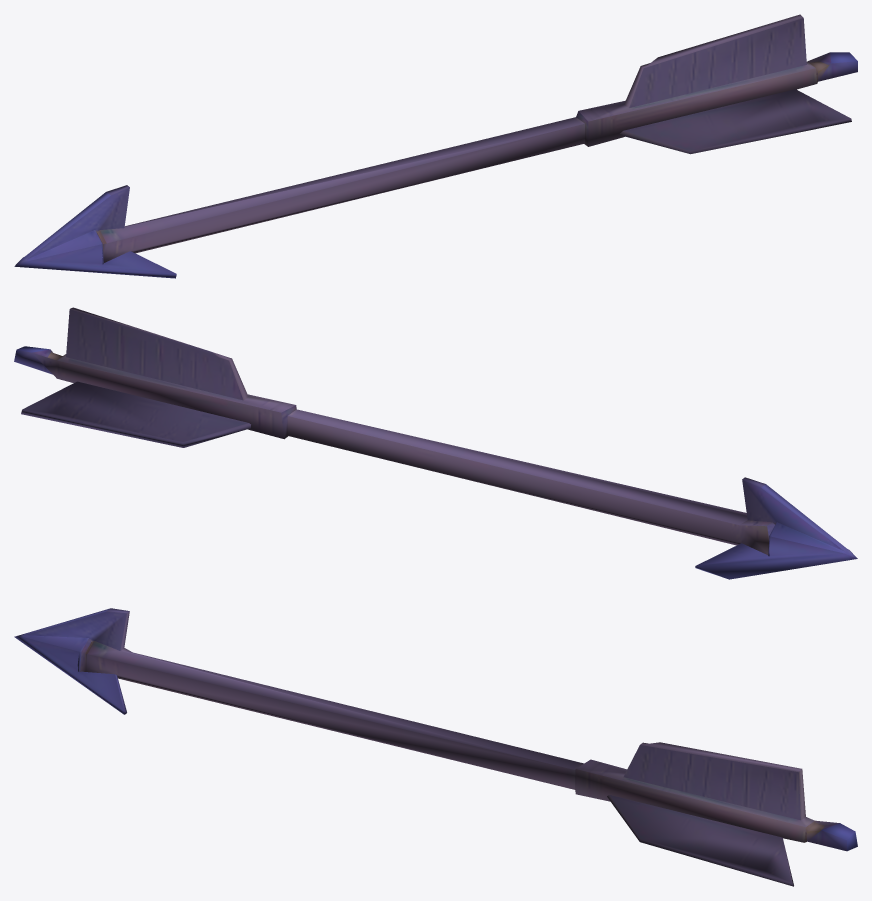
File: model.progressive.glb
3 renders of one model, top to bottom at view 1: azimuth 30°, elevation 25°; view 2: azimuth 150°, elevation 25°; view 3: azimuth 330°, elevation 25°, orthographic.
Parts seen in each view (by area): view 1: mesh_input; view 2: mesh_input; view 3: mesh_input.
Boxes of the visible parts, bbox=[...] form: mesh_input: bbox=[14, 14, 857, 278]; mesh_input: bbox=[14, 307, 857, 579]; mesh_input: bbox=[14, 608, 857, 886].
Bounding box in the file's own units: 1.9 × 0.1953 × 0.2285.
1 material, 1 textured.
